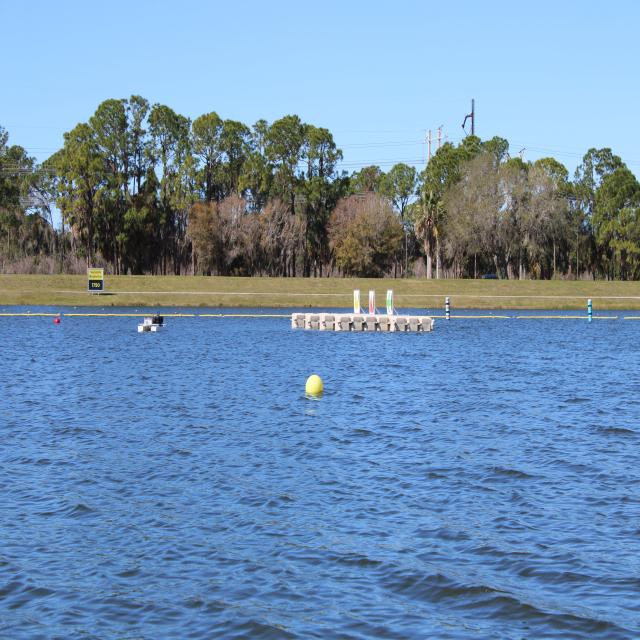red-buoy: (56, 316, 62, 326)
yellow-buoy: (304, 372, 323, 396)
